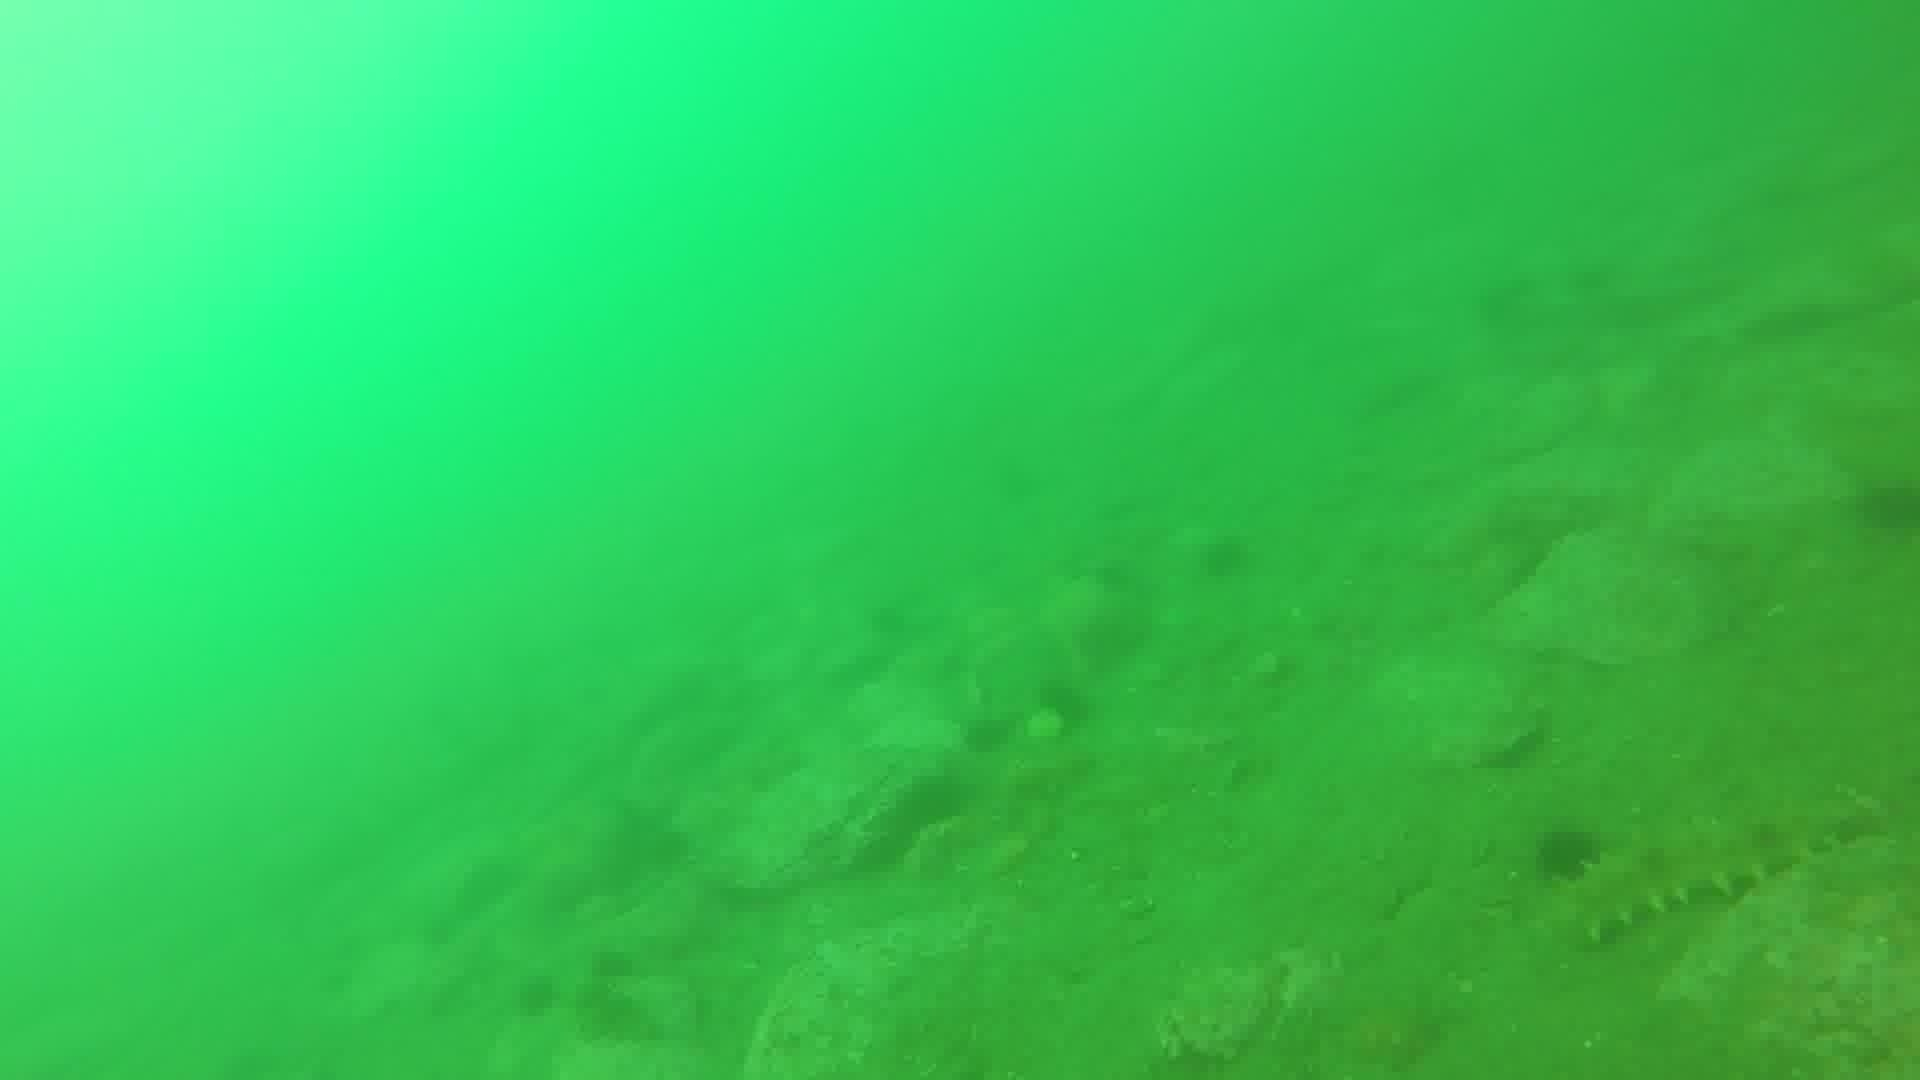echinus: (1528, 820, 1606, 887), (1849, 469, 1920, 542), (1033, 673, 1098, 735), (1193, 527, 1258, 585), (956, 708, 1021, 760), (509, 968, 563, 1021)
holothurian: (1557, 795, 1875, 948)
